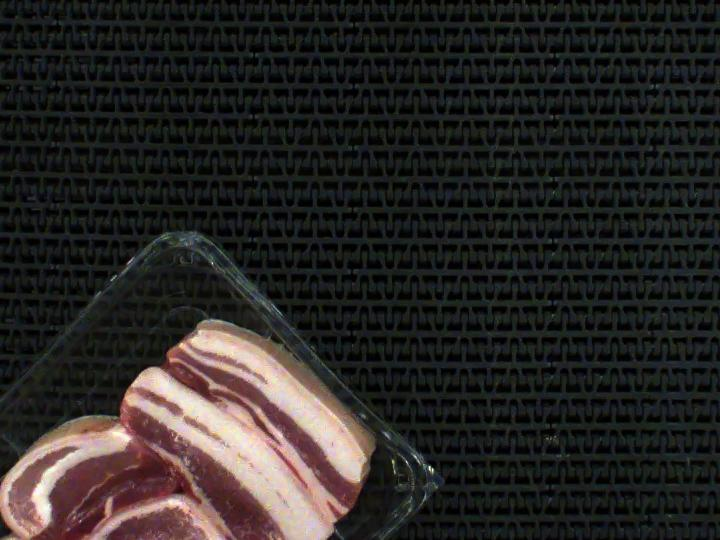twisted-meat: (30, 418, 213, 540)
